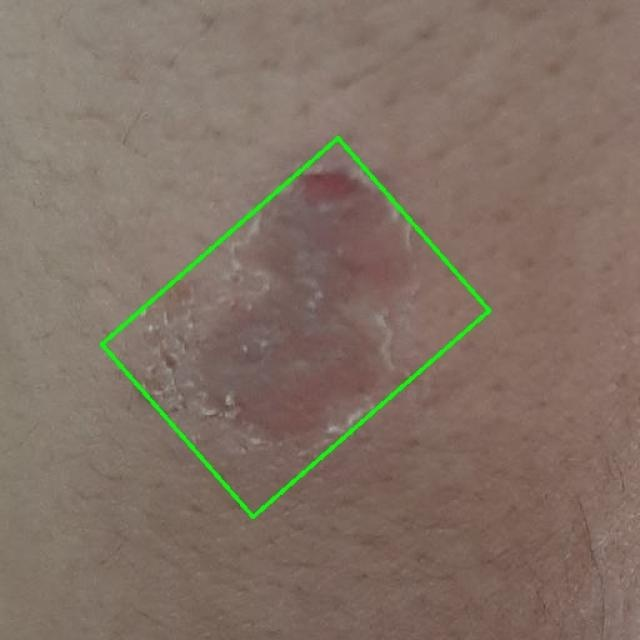Tinea Corporis: (102, 138, 489, 517)
